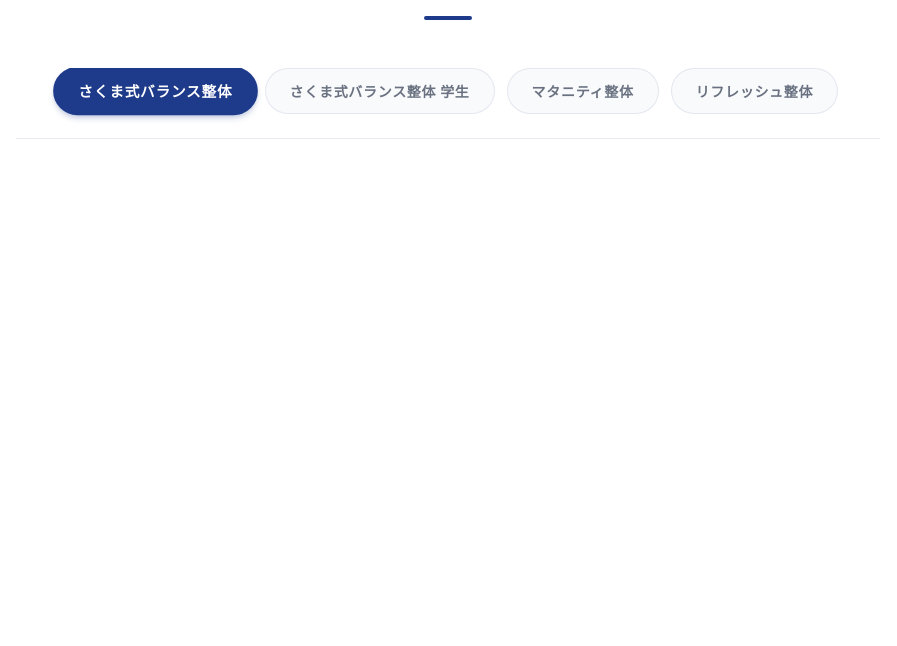
Test: CourseDetails Component › should switch the active menu when clicking on a tab button
// 「マタニティ」のタブをクリック
Click the button "マタニティ整体": (583, 91) [506,68,659,114]
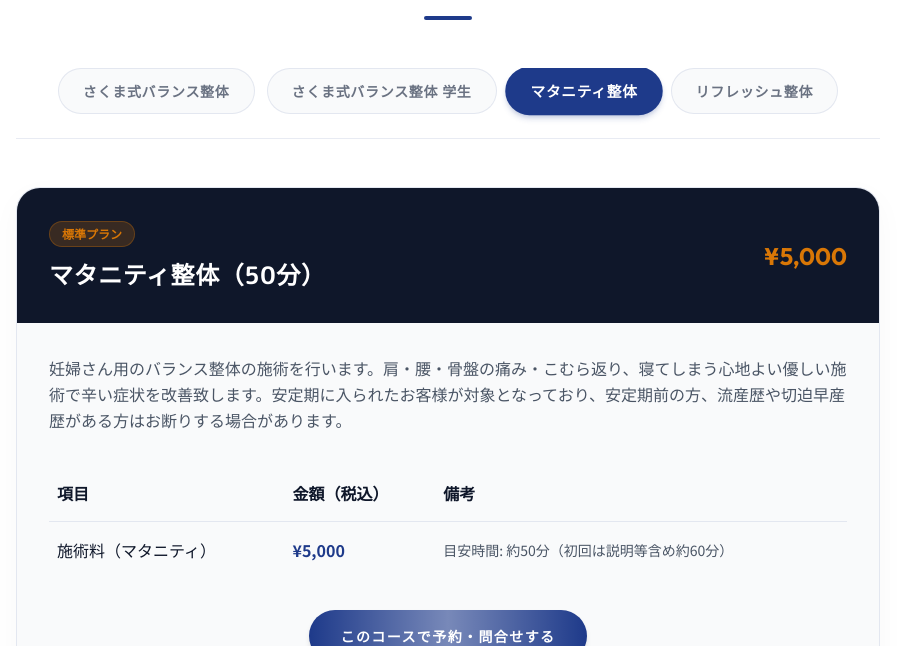
Result: the heading "マタニティ整体（50分）" is shown at [49,259,326,291]
